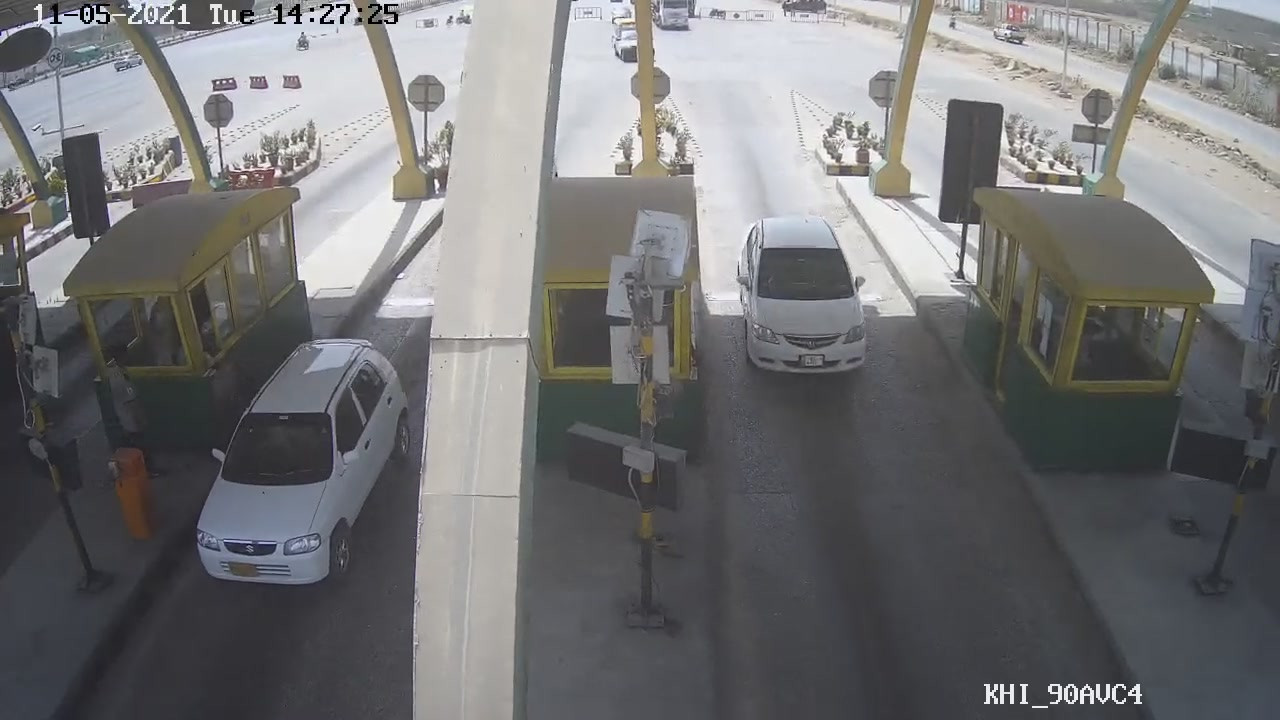F1: (729, 205, 878, 380)
